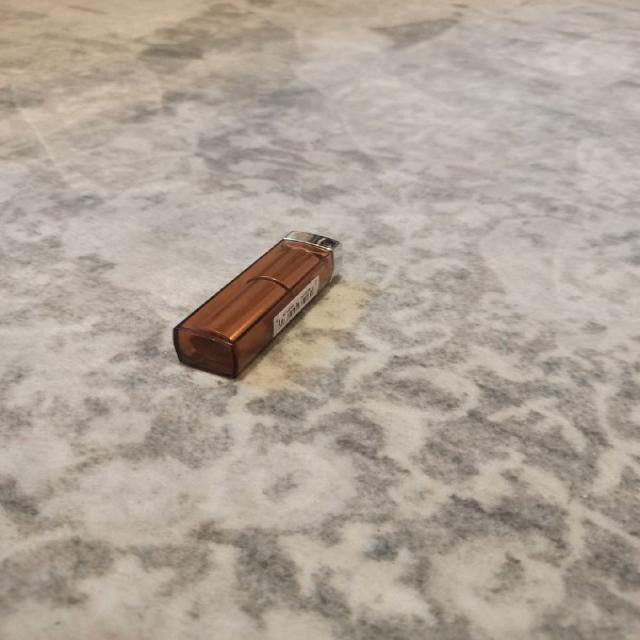lipstick: (171, 230, 341, 379)
